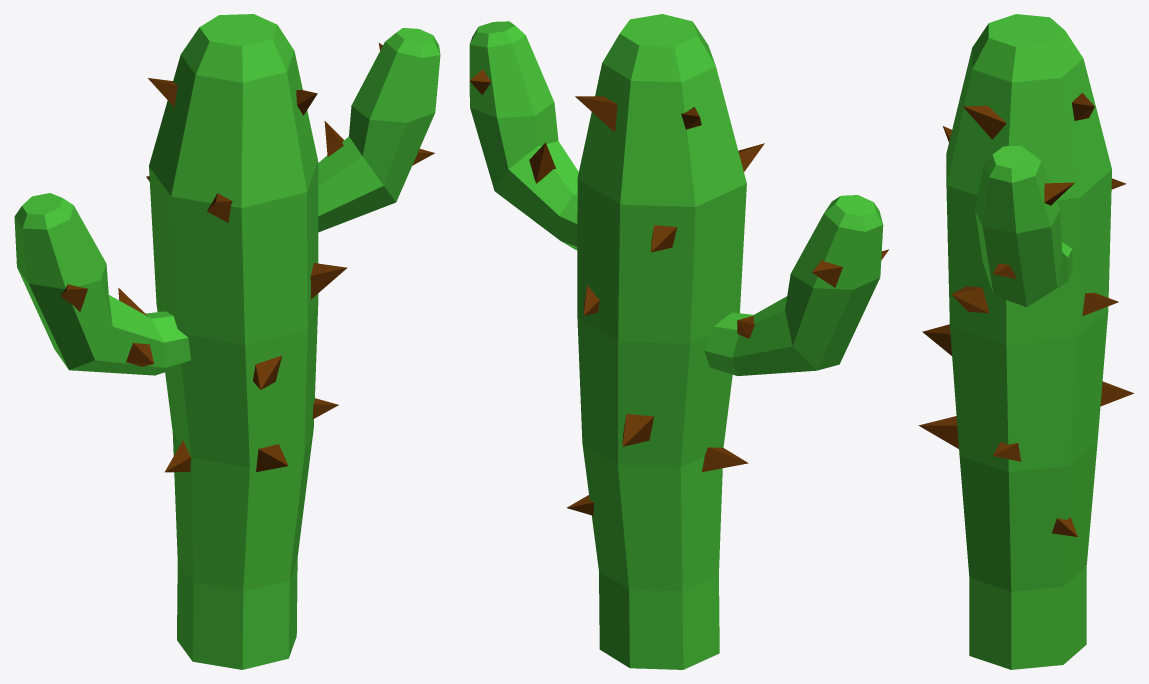
The model's file is cactus.fbx.
3 renders of one model, left to right at view 1: azimuth 30°, elevation 25°; view 2: azimuth 150°, elevation 25°; view 3: azimuth 270°, elevation 25°, orthographic.
Parts seen in each view (by area): view 1: Circle, Cube.001, Cube, Cube.003; view 2: Circle, Cube.006, Cube.010, Cube.005, Cube.018; view 3: Circle, Cube.016, Cube.001, Cube, Cube.009, Cube.003, Cube.006, Cube.019, Cube.010, Cube.004, Cube.008.
Boxes of the visible parts, box(x1,y1,x2,y2) form: Circle: box(14, 14, 440, 669); Cube.001: box(310, 263, 347, 299); Cube: box(256, 444, 288, 472); Cube.003: box(253, 355, 281, 389); Circle: box(469, 14, 883, 669); Cube.006: box(622, 414, 653, 446); Cube.010: box(575, 96, 617, 132); Cube.005: box(702, 447, 748, 471); Cube.018: box(529, 142, 555, 183); Circle: box(946, 14, 1111, 669); Cube.016: box(963, 105, 1006, 139); Cube.001: box(951, 286, 989, 313); Cube: box(918, 416, 958, 448); Cube.009: box(1082, 292, 1118, 316); Cube.003: box(922, 324, 951, 355); Cube.006: box(1100, 381, 1133, 406); Cube.019: box(1044, 182, 1074, 205); Cube.010: box(1072, 93, 1094, 120); Cube.004: box(993, 442, 1021, 461); Cube.008: box(1052, 517, 1077, 536).
Size of the model in its own units: 682 by 968 by 309.
